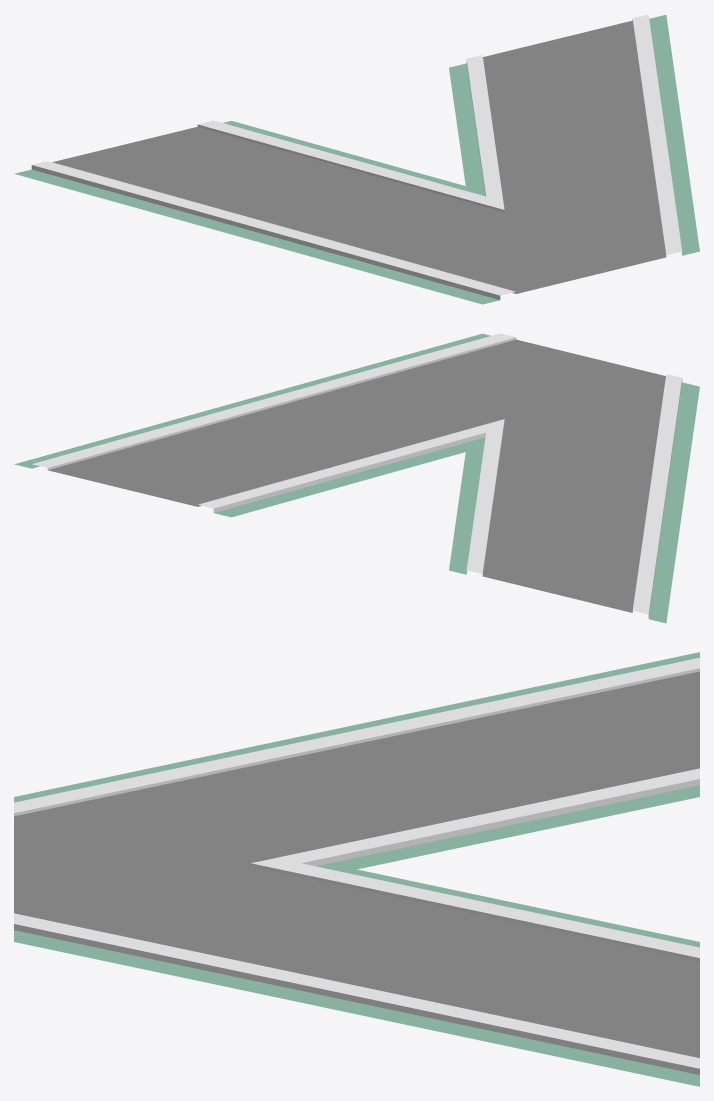
The model's file is roadSplit.glb.
The picture shows the model from 3 angles, top to bottom: view 1: azimuth 30°, elevation 25°; view 2: azimuth 150°, elevation 25°; view 3: azimuth 270°, elevation 25°; orthographic projection. The views are drawn at different scales.
Parts seen in each view (by area): view 1: roadSplit(Clone); view 2: roadSplit(Clone); view 3: roadSplit(Clone).
Part boxes in pixels (left/top/right/bottom): roadSplit(Clone): left=14, top=14, right=699, bottom=304; roadSplit(Clone): left=14, top=333, right=699, bottom=623; roadSplit(Clone): left=14, top=652, right=699, bottom=1086.
Size of the model in its own units: 3 by 0.02 by 2.
